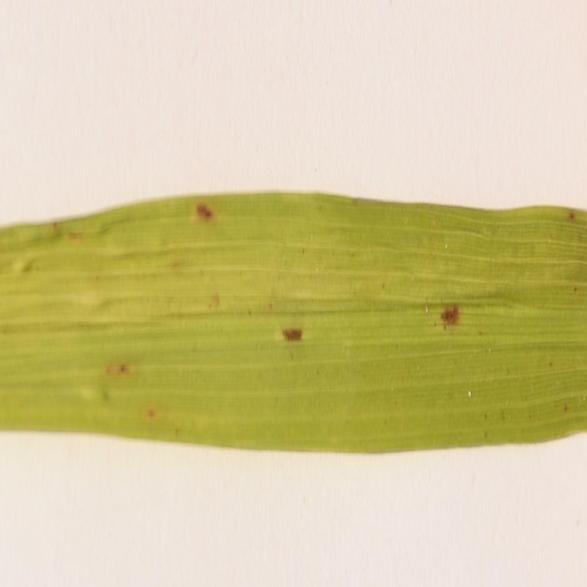Brown_Spot: (434, 278, 477, 361), (274, 290, 310, 366), (185, 180, 220, 252)
